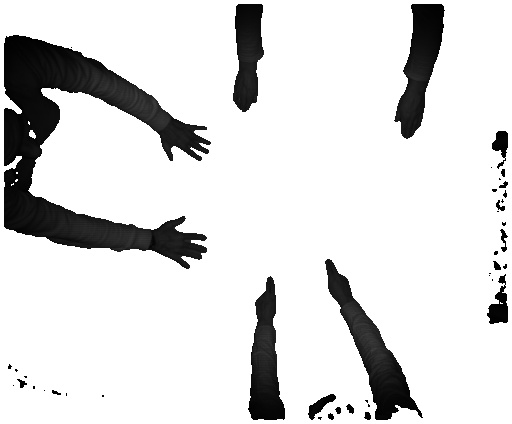hand: (155, 216, 207, 271), (162, 122, 215, 167), (392, 89, 431, 143), (320, 256, 359, 301), (248, 272, 279, 321), (233, 70, 263, 111)
